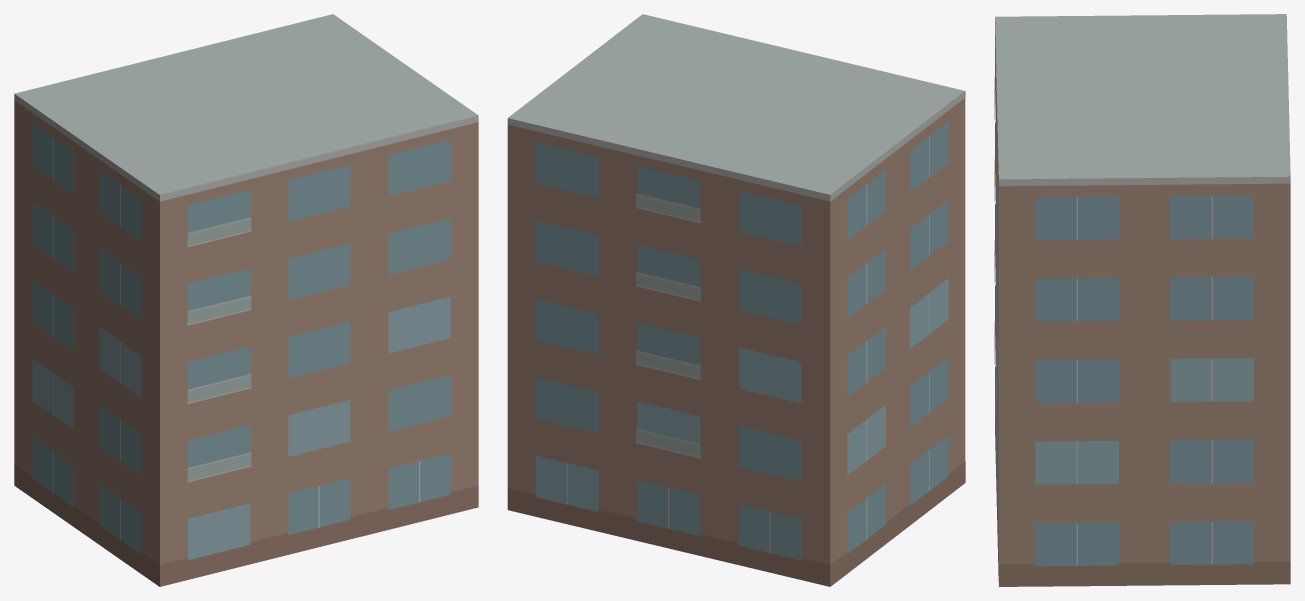
File: survey-upis-32965729.glb
The picture shows the model from 3 angles, left to right: view 1: azimuth 30°, elevation 25°; view 2: azimuth 150°, elevation 25°; view 3: azimuth 270°, elevation 25°; orthographic projection. The views are drawn at different scales.
Visible parts, largest first — view 1: survey-upis-32965729.tmp; view 2: survey-upis-32965729.tmp; view 3: survey-upis-32965729.tmp.
Boxes of the visible parts, x1,y1,x2,y2 form: survey-upis-32965729.tmp: (14, 14, 478, 586); survey-upis-32965729.tmp: (507, 14, 965, 586); survey-upis-32965729.tmp: (994, 14, 1290, 586).
Size of the model in its own units: 12.63 by 14.5 by 9.57.
